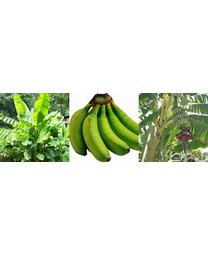banana: (68, 93, 142, 162)
